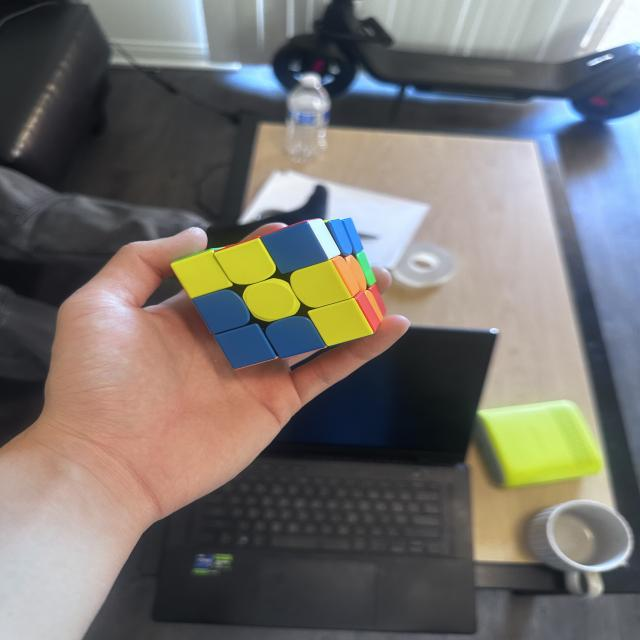sticker: (261, 220, 333, 276), (308, 297, 376, 347), (290, 258, 355, 309), (169, 248, 231, 299), (212, 323, 278, 370), (214, 237, 276, 286), (263, 315, 325, 361), (191, 288, 251, 335), (242, 277, 301, 322), (332, 254, 366, 296), (353, 287, 384, 331), (354, 249, 376, 286), (365, 286, 387, 318)
